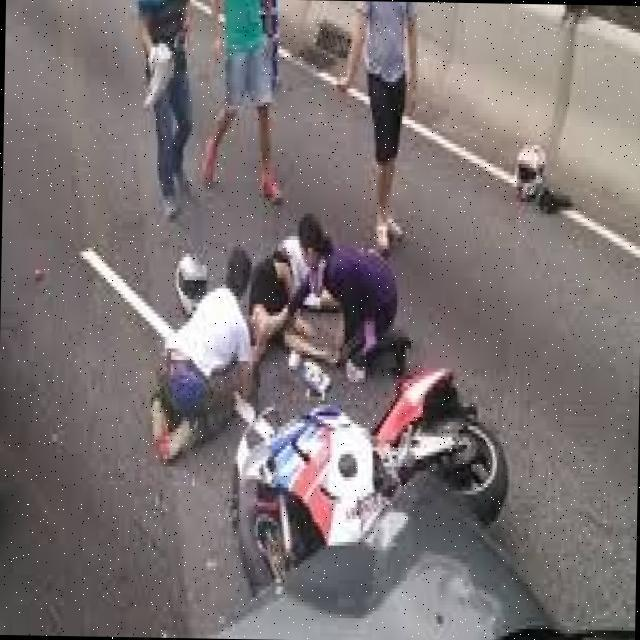accident: (214, 350, 530, 613)
